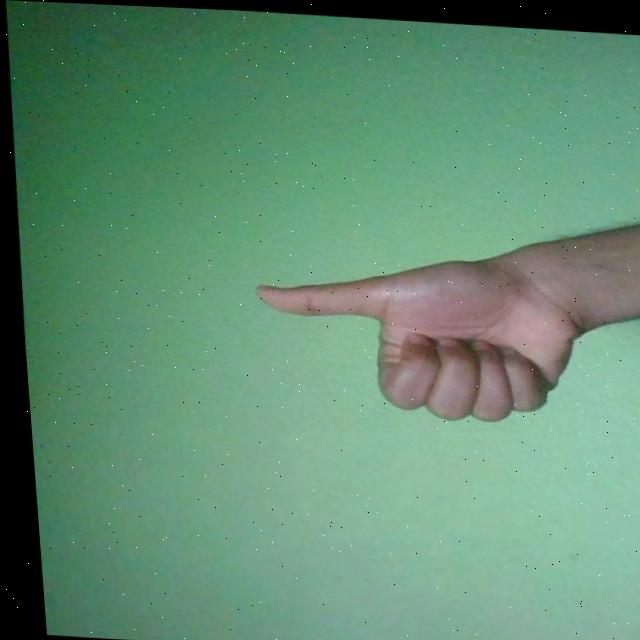Good Job: (246, 241, 587, 424)
